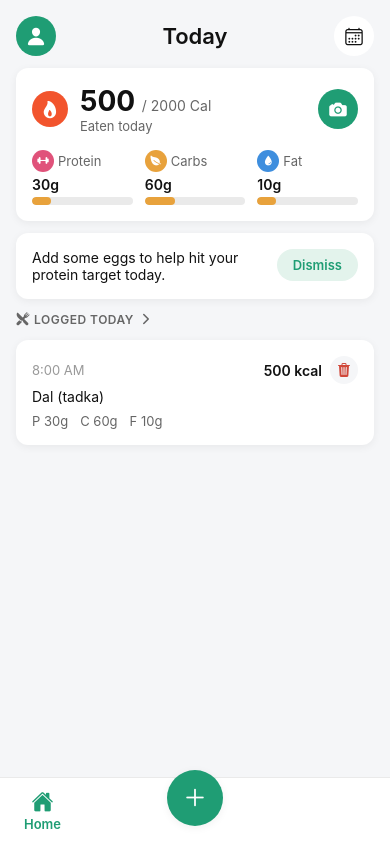
Test: DashboardScreen › dismisses the recommendation and hides the card
expect the element with test id "recommendation-card" is shown: met, box [16, 233, 374, 299]
Click the element with test id "dismiss-recommendation-button" at coordinates (317, 265), box [277, 249, 358, 281]
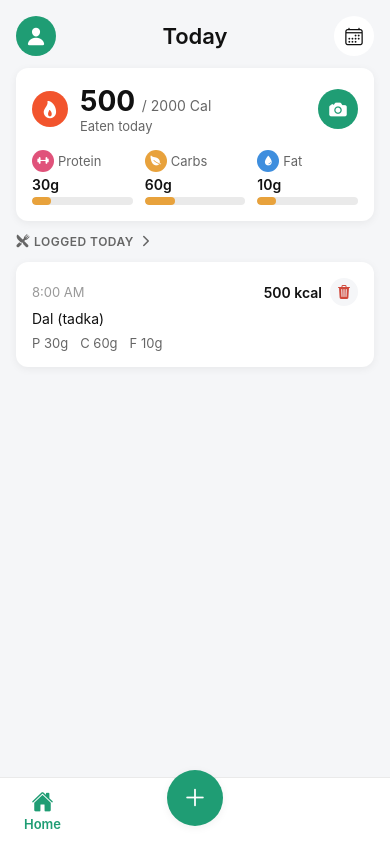
expect the element with test id "recommendation-card" is gone: met
